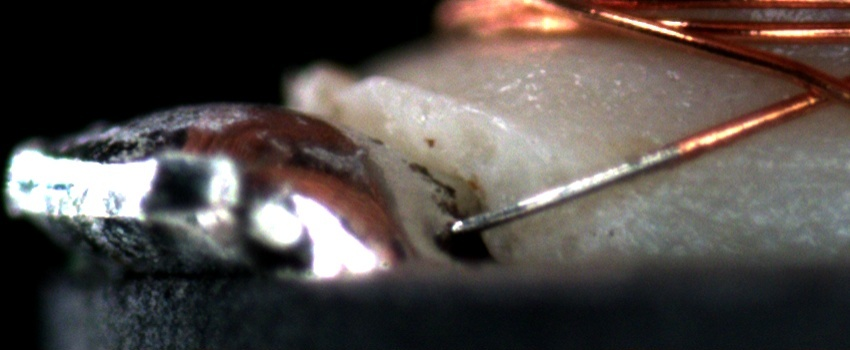CL: (778, 62, 847, 114)
DL: (686, 143, 850, 207)
TS: (451, 145, 682, 236)
